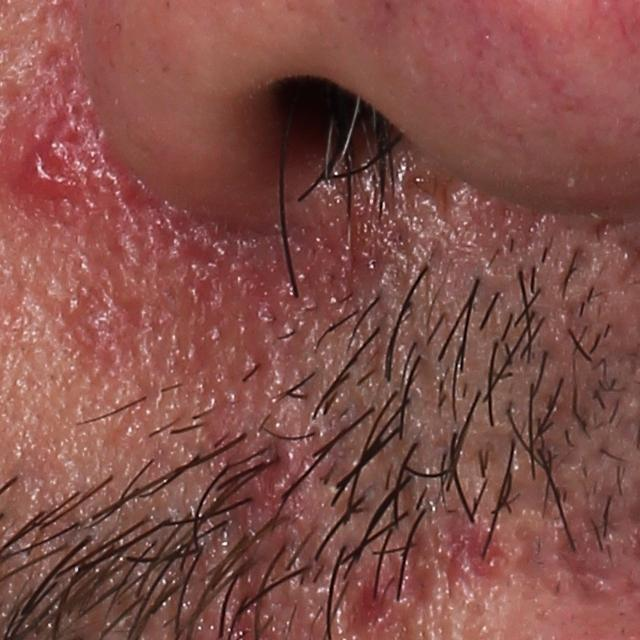atrophic_scar: (557, 501, 626, 601), (512, 515, 560, 587), (402, 517, 438, 612), (396, 165, 451, 223)
